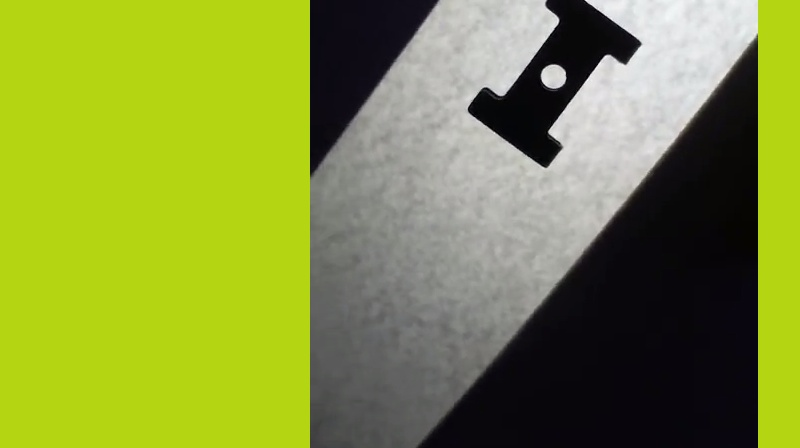O002: (467, 0, 646, 170)
